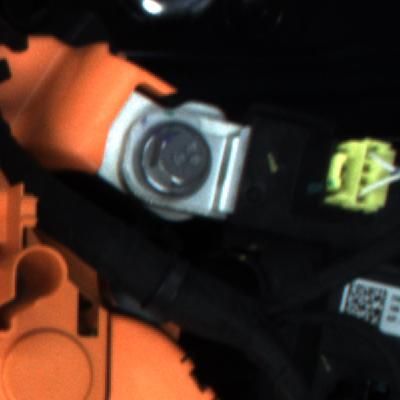nut_b: (134, 115, 218, 204)
